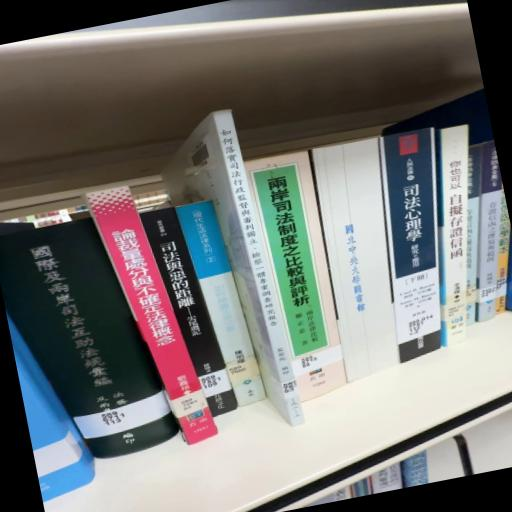backward: (312, 139, 400, 383)
book: (155, 107, 316, 465), (1, 195, 191, 474), (83, 184, 219, 463), (361, 126, 481, 362), (144, 199, 244, 435), (175, 194, 274, 421), (251, 150, 351, 359)
